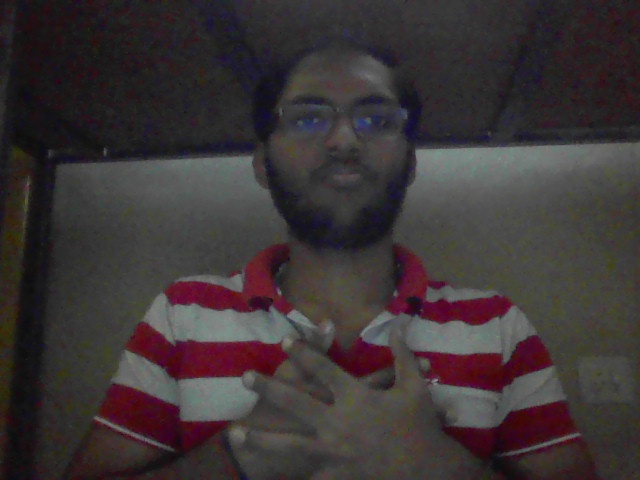Yes_Hungry: (226, 303, 480, 480)
